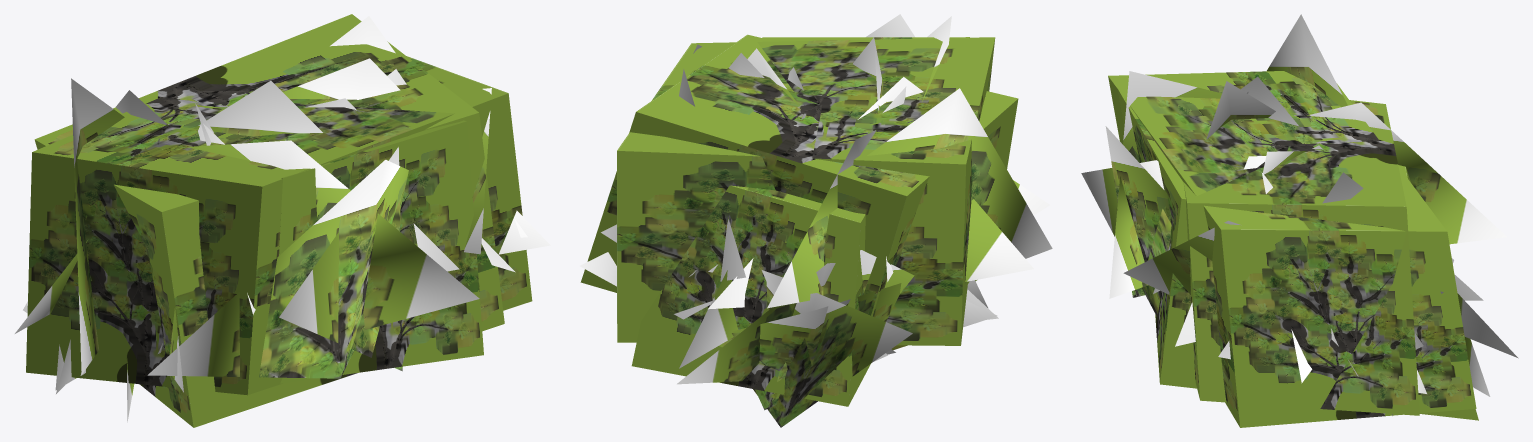
The model's file is square.FBX.
3 renders of one model, left to right at view 1: azimuth 30°, elevation 25°; view 2: azimuth 150°, elevation 25°; view 3: azimuth 270°, elevation 25°, orthographic. The views are drawn at different scales.
Visible parts, largest first — view 1: bush_Buisson_02_Atlas; view 2: bush_Buisson_02_Atlas; view 3: bush_Buisson_02_Atlas.
Boxes of the visible parts, x1,y1,x2,y2 form: bush_Buisson_02_Atlas: [15, 14, 550, 427]; bush_Buisson_02_Atlas: [580, 14, 1052, 427]; bush_Buisson_02_Atlas: [1081, 14, 1518, 427].
Size of the model in its own units: 35.19 by 26.68 by 32.17.
Materials: 1 (1 with a texture image).
